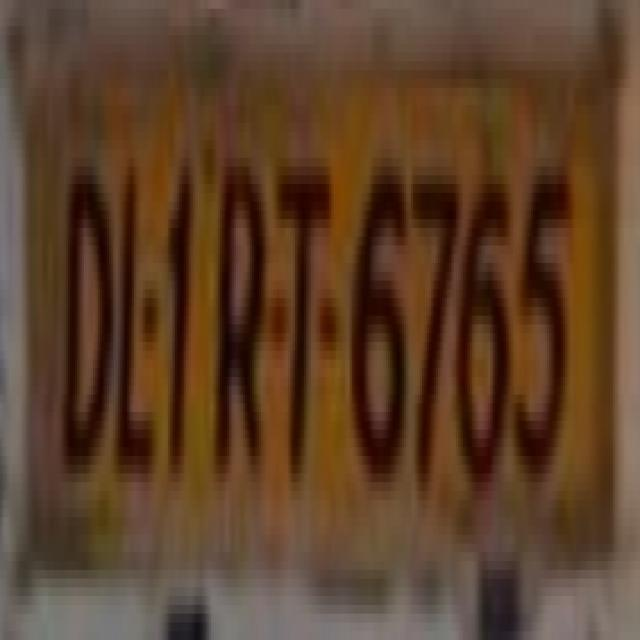1: (162, 144, 204, 503)
5: (514, 130, 578, 483)
6: (347, 132, 410, 495), (463, 168, 518, 511)
7: (407, 161, 465, 521)
D: (55, 152, 116, 460)
L: (116, 144, 156, 493)
R: (212, 137, 268, 513)
T: (274, 137, 336, 517)
